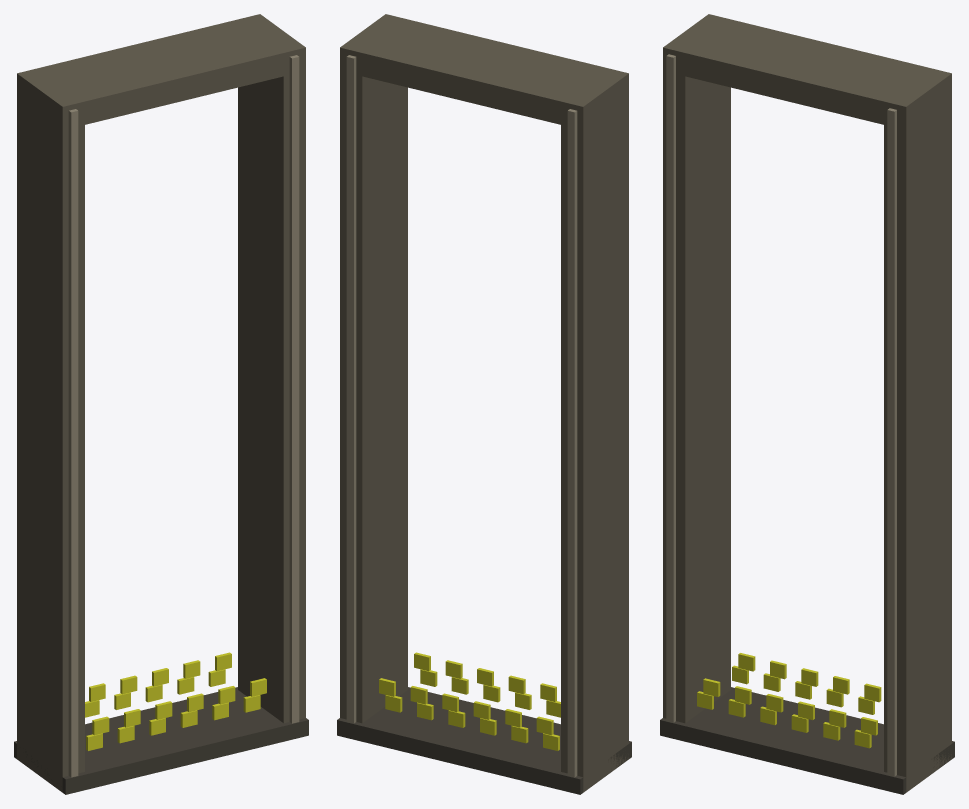
The model's file is CMU3DSingleEngineerGovforDoorOpen.glb.
The picture shows the model from 3 angles, left to right: view 1: azimuth 30°, elevation 25°; view 2: azimuth 150°, elevation 25°; view 3: azimuth 330°, elevation 25°; orthographic projection.
Parts seen in each view (by area): view 1: door jamb (×2), header, jamb raised edge (×2), threshold; view 2: door jamb (×2), header, jamb raised edge (×2), threshold; view 3: door jamb (×2), header, jamb raised edge (×2), threshold.
Part boxes in pixels (left/top/right/bottom): door jamb (×2): left=17, top=14, right=305, bottom=792; header: left=17, top=14, right=305, bottom=129; jamb raised edge (×2): left=68, top=55, right=299, bottom=777; threshold: left=14, top=687, right=308, bottom=794; door jamb (×2): left=340, top=14, right=628, bottom=792; header: left=340, top=14, right=628, bottom=129; jamb raised edge (×2): left=346, top=55, right=577, bottom=777; threshold: left=337, top=687, right=631, bottom=794; door jamb (×2): left=663, top=14, right=951, bottom=792; header: left=663, top=14, right=951, bottom=129; jamb raised edge (×2): left=666, top=54, right=896, bottom=776; threshold: left=660, top=687, right=954, bottom=794.
Size of the model in its own units: 0.98 by 2.64 by 0.36.
